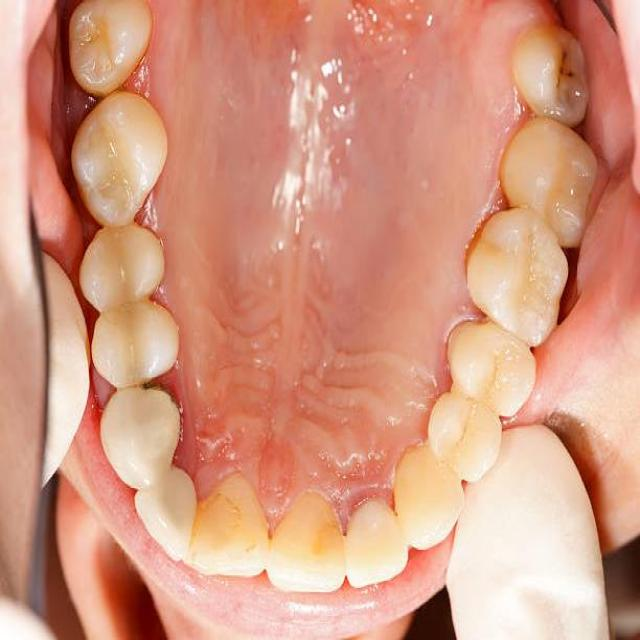caries: (536, 41, 589, 111)
